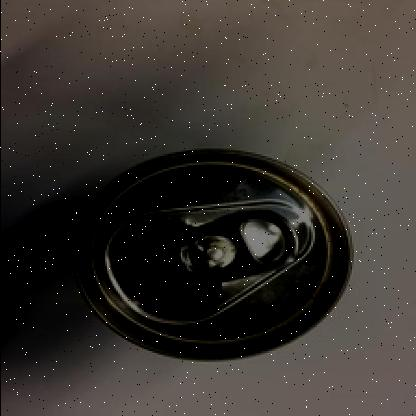Can: (53, 126, 367, 384)
